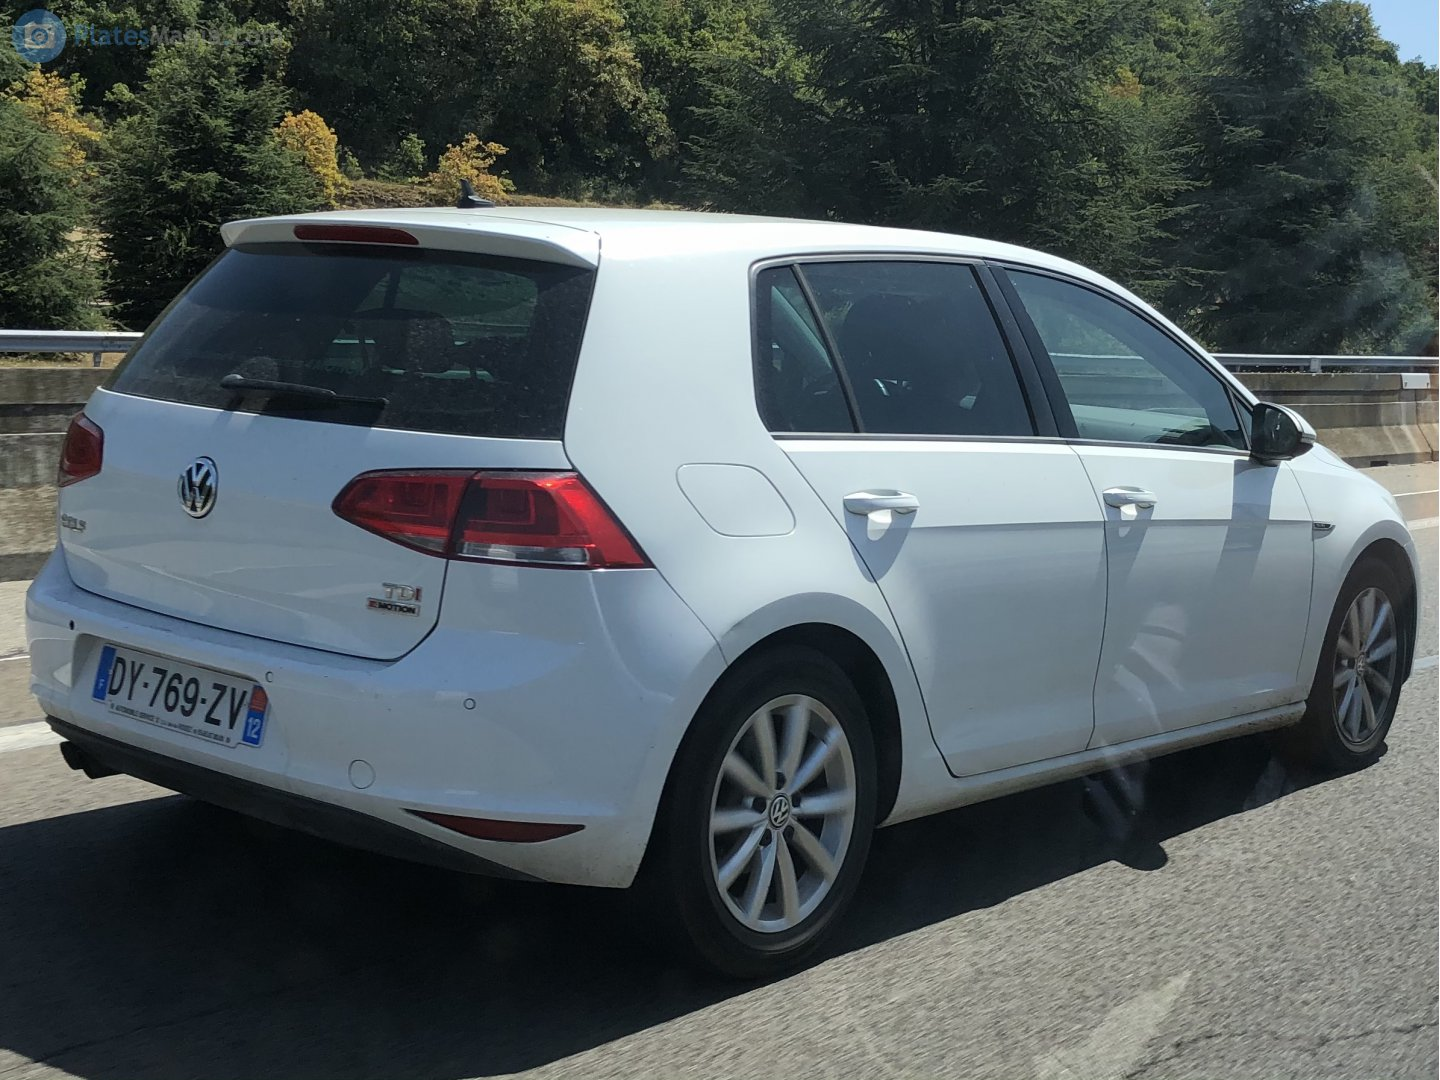licence plate: (88, 638, 274, 752)
